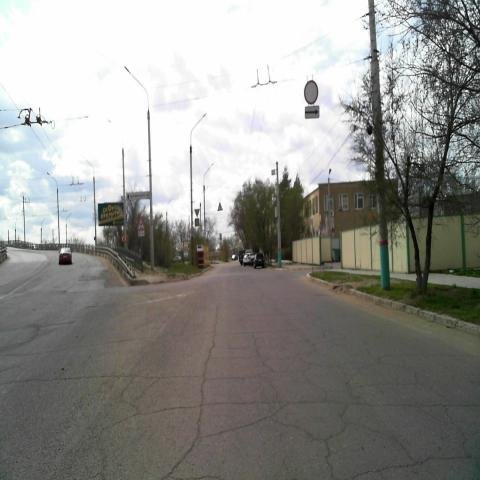3_2: (304, 79, 318, 105)
8_3_1: (304, 105, 320, 119)
